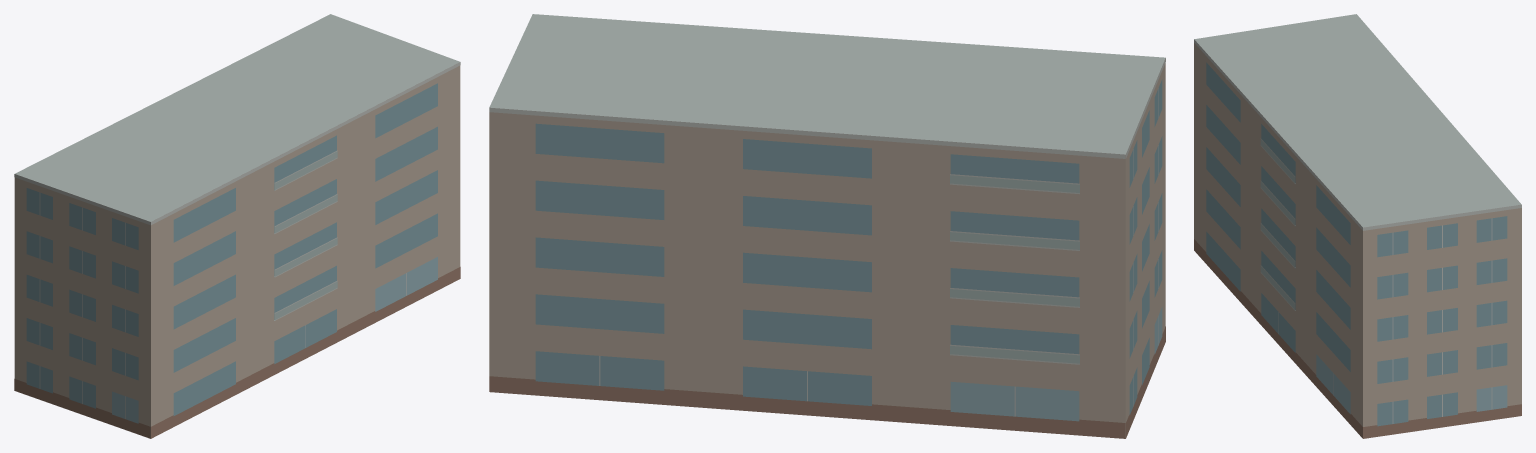
File: survey-upis-32853047.glb
The picture shows the model from 3 angles, left to right: view 1: azimuth 30°, elevation 25°; view 2: azimuth 150°, elevation 25°; view 3: azimuth 270°, elevation 25°; orthographic projection. The views are drawn at different scales.
Visible parts, largest first — view 1: survey-upis-32853047.tmp; view 2: survey-upis-32853047.tmp; view 3: survey-upis-32853047.tmp.
Part boxes in pixels (bbox=[...]): survey-upis-32853047.tmp: bbox=[14, 14, 460, 438]; survey-upis-32853047.tmp: bbox=[489, 14, 1165, 438]; survey-upis-32853047.tmp: bbox=[1194, 14, 1521, 438].
Bounding box in the file's own units: 33.73 × 15.56 × 21.88.
